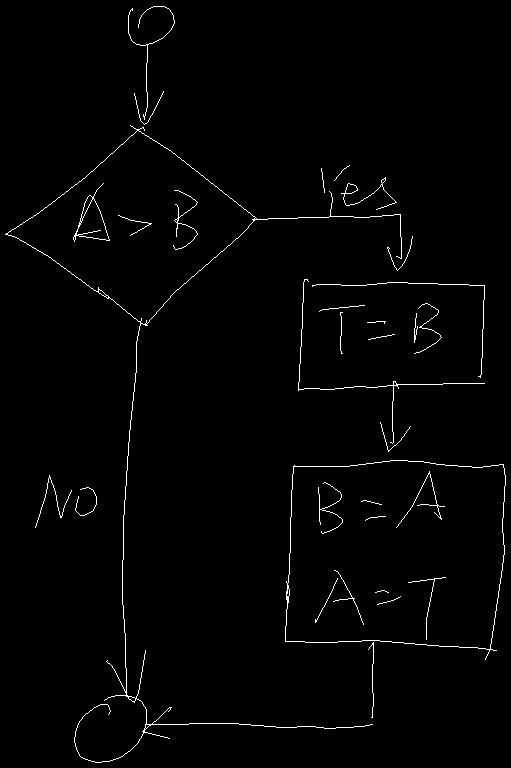arrow: (142, 642, 373, 738), (106, 318, 145, 702), (252, 214, 412, 270), (134, 45, 163, 124), (380, 381, 410, 451)
connection: (74, 695, 146, 762), (128, 6, 174, 45)
decision: (5, 125, 256, 325)
process: (285, 460, 505, 659), (298, 279, 484, 390)
text: (315, 471, 445, 639), (73, 183, 197, 249), (319, 303, 441, 353), (321, 165, 396, 216), (35, 475, 96, 527)
